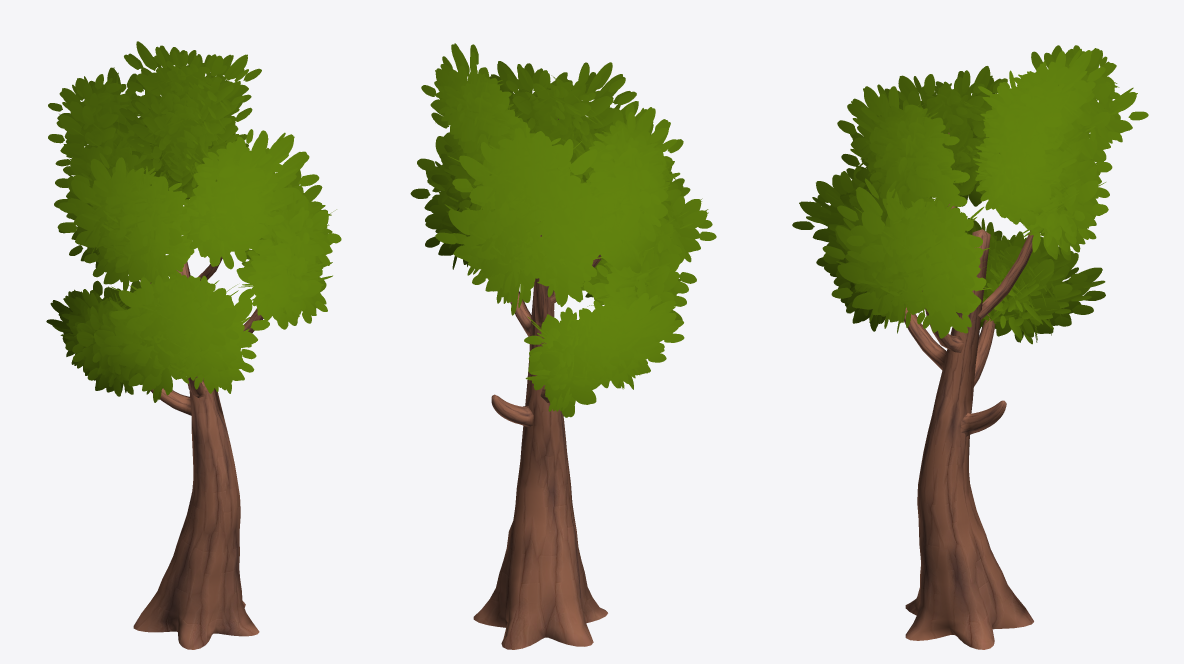
File: arbol_hojas_2.obj
The picture shows the model from 3 angles, left to right: view 1: azimuth 30°, elevation 25°; view 2: azimuth 150°, elevation 25°; view 3: azimuth 270°, elevation 25°; orthographic projection. The views are drawn at different scales.
Parts seen in each view (by area): view 1: CommonTree_5; view 2: CommonTree_5; view 3: CommonTree_5.
Boxes of the visible parts, box(x1,y1,x2,y2) form: CommonTree_5: box(46, 41, 341, 649); CommonTree_5: box(410, 43, 716, 649); CommonTree_5: box(792, 45, 1148, 649).
Size of the model in its own units: 3.67 by 7.01 by 4.22.
2 materials, 2 textured.
